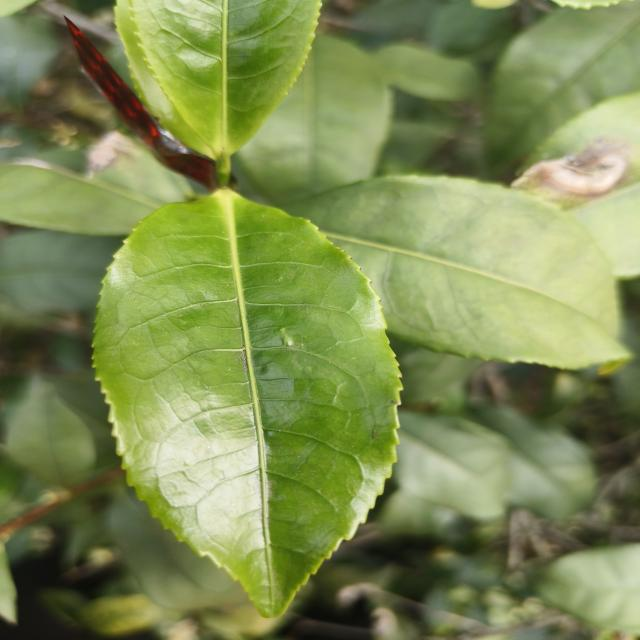Leaf: (94, 190, 400, 616), (285, 176, 628, 369), (131, 0, 320, 159), (485, 0, 640, 176), (235, 34, 392, 205), (512, 92, 640, 278), (0, 132, 194, 236), (107, 492, 248, 610), (479, 407, 596, 519), (392, 411, 510, 519), (0, 230, 121, 313), (6, 376, 96, 486), (536, 544, 640, 632), (374, 44, 479, 101)
